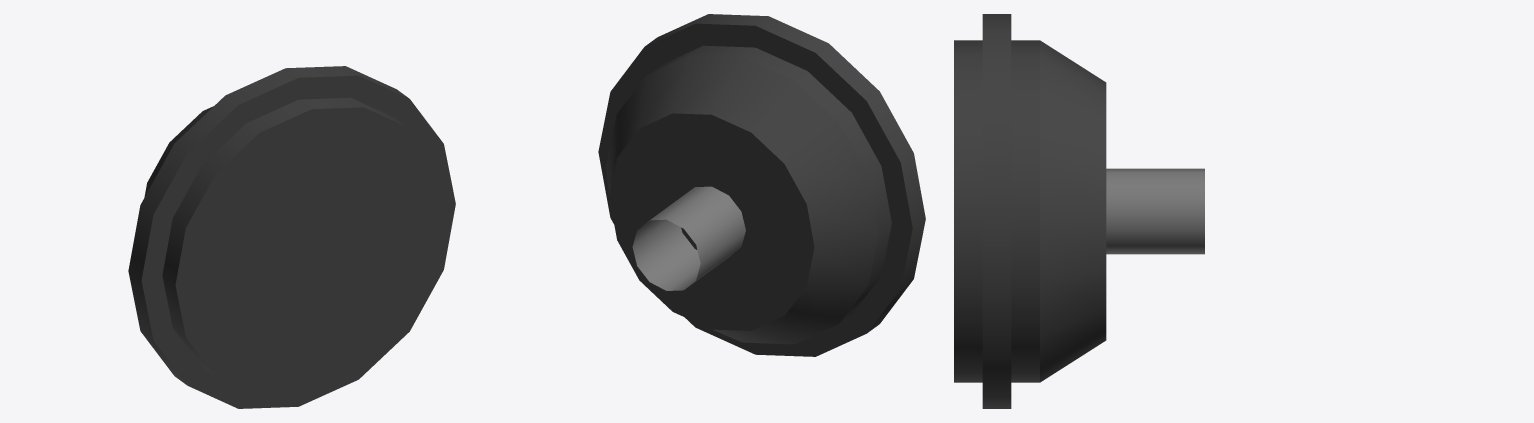
File: Swi_BoPian_1X1_off.fbx
The picture shows the model from 3 angles, left to right: view 1: azimuth 30°, elevation 25°; view 2: azimuth 150°, elevation 25°; view 3: azimuth 270°, elevation 25°; orthographic projection. The views are drawn at different scales.
Visible parts, largest first — view 1: Box003; view 2: Box003; view 3: Box003.
Boxes of the visible parts, x1,y1,x2,y2 form: Box003: (128,66,455,408); Box003: (598,14,925,356); Box003: (954,14,1204,408).
Bounding box in the file's own units: 0.4612 × 0.4612 × 0.6598.
